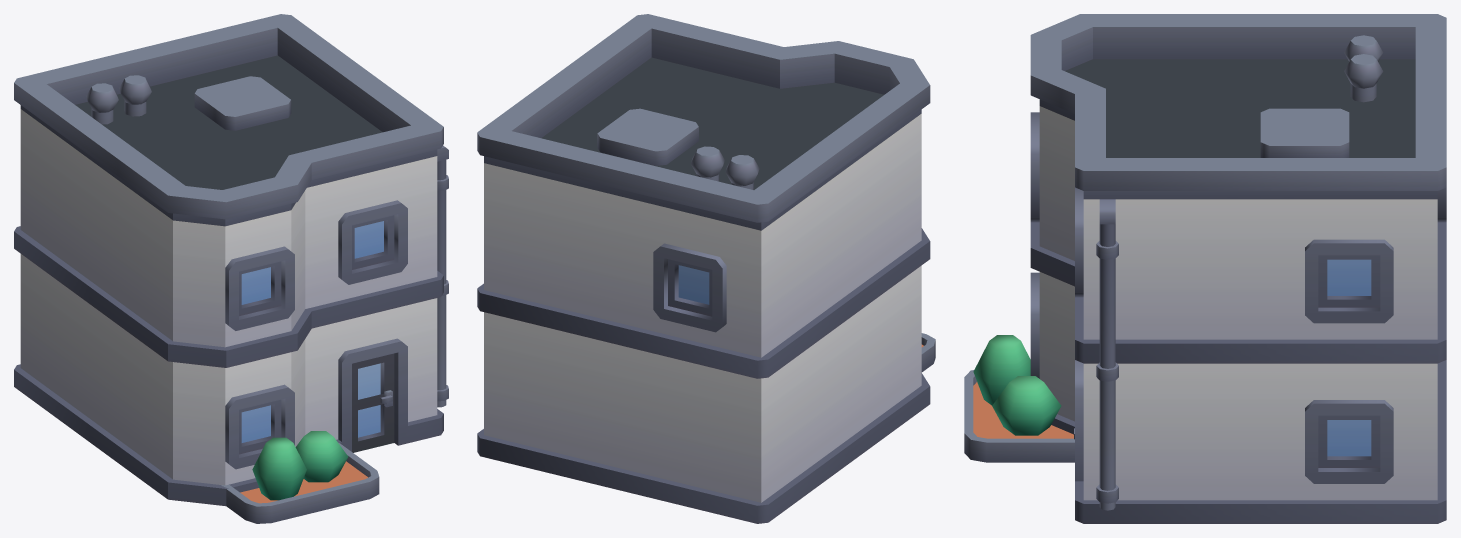
The model's file is bld_low_b.glb.
3 views of the same model, side by side, from view 1: azimuth 30°, elevation 25°; view 2: azimuth 150°, elevation 25°; view 3: azimuth 270°, elevation 25° (orthographic). The views are drawn at different scales.
Visible parts, largest first — view 1: building-c; view 2: building-c; view 3: building-c.
Part boxes in pixels (left/top/right/bottom): building-c: left=14, top=14, right=448, bottom=523; building-c: left=477, top=14, right=935, bottom=523; building-c: left=964, top=14, right=1446, bottom=523.
Bounding box in the file's own units: 9.89 × 10 × 12.21.
1 material, 1 textured.
